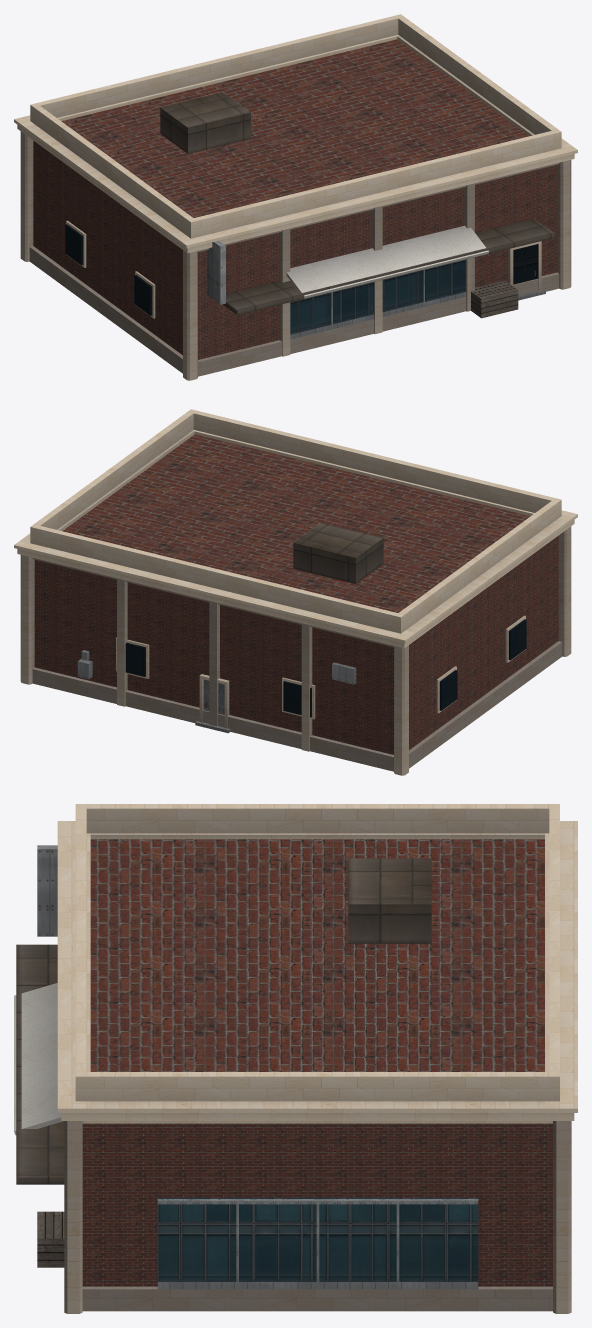
File: corner-grocery_lod0.gltf
3 renders of one model, top to bottom at view 1: azimuth 30°, elevation 25°; view 2: azimuth 150°, elevation 25°; view 3: azimuth 270°, elevation 25°, orthographic. The views are drawn at different scales.
Visible parts, largest first — view 1: corner-grocery_main, corner-grocery__v4_stone_detail, corner-grocery__v4_metal_detail, corner-grocery__awning, corner-grocery_fen_07-glass-curtain-blue_1, corner-grocery_fen_07-glass-curtain-blue_3_t, corner-grocery__crates, corner-grocery__blade_sign, corner-grocery_fen_14-steel-panel_0, corner-grocery_fen_04-limestone_2; view 2: corner-grocery_main, corner-grocery__v4_stone_detail, corner-grocery__v4_metal_detail, corner-grocery_fen_07-glass-curtain-blue_3_t, corner-grocery_fen_04-limestone_2, corner-grocery_fen_14-steel-panel_0; view 3: corner-grocery_main, corner-grocery__v4_stone_detail, corner-grocery_fen_07-glass-curtain-blue_1, corner-grocery__v4_metal_detail, corner-grocery__awning, corner-grocery_fen_14-steel-panel_0, corner-grocery__blade_sign, corner-grocery__crates.
Part boxes in pixels (x1,y1,x2,y2): corner-grocery_main: [33, 39, 557, 359]; corner-grocery__v4_stone_detail: [14, 14, 577, 380]; corner-grocery__v4_metal_detail: [160, 92, 554, 314]; corner-grocery__awning: [286, 225, 488, 298]; corner-grocery_fen_07-glass-curtain-blue_1: [290, 259, 466, 334]; corner-grocery_fen_07-glass-curtain-blue_3_t: [65, 224, 537, 315]; corner-grocery__crates: [471, 280, 518, 318]; corner-grocery__blade_sign: [207, 240, 225, 304]; corner-grocery_fen_14-steel-panel_0: [290, 269, 466, 339]; corner-grocery_fen_04-limestone_2: [66, 220, 541, 318]; corner-grocery_main: [34, 434, 558, 754]; corner-grocery__v4_stone_detail: [14, 409, 577, 775]; corner-grocery__v4_metal_detail: [293, 522, 383, 583]; corner-grocery_fen_07-glass-curtain-blue_3_t: [125, 619, 526, 717]; corner-grocery_fen_04-limestone_2: [116, 615, 525, 728]; corner-grocery_fen_14-steel-panel_0: [77, 650, 356, 715]; corner-grocery_main: [82, 839, 552, 1286]; corner-grocery__v4_stone_detail: [57, 804, 577, 1313]; corner-grocery_fen_07-glass-curtain-blue_1: [157, 1198, 478, 1281]; corner-grocery__v4_metal_detail: [16, 858, 431, 1184]; corner-grocery__awning: [14, 983, 63, 1135]; corner-grocery_fen_14-steel-panel_0: [157, 1199, 478, 1289]; corner-grocery__blade_sign: [37, 845, 57, 936]; corner-grocery__crates: [37, 1211, 64, 1267].
Bounding box in the file's own units: 21.22 × 8.37 × 17.58.
